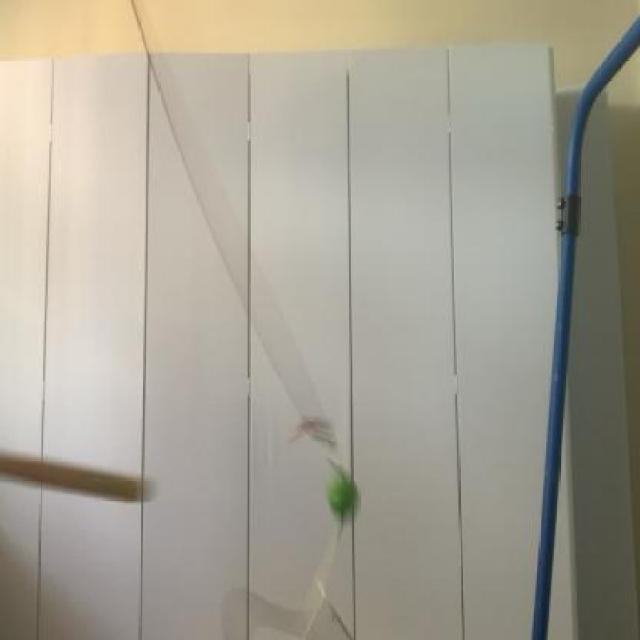baseball: (318, 467, 362, 527)
